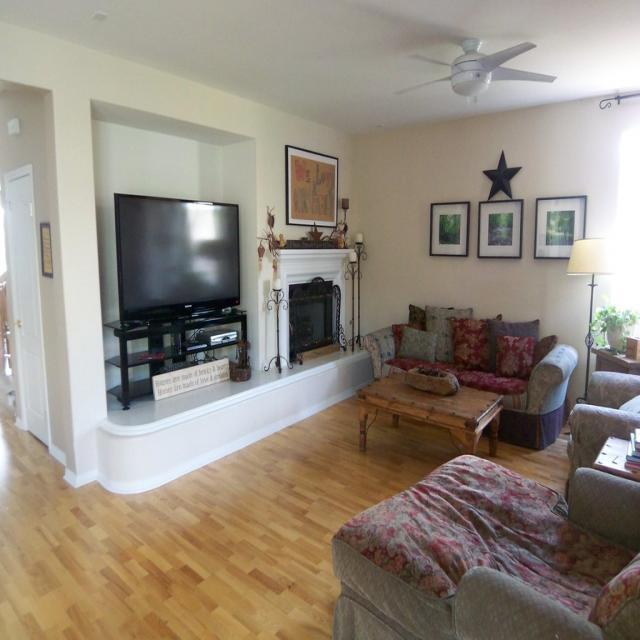fan_off: (388, 37, 555, 101)
